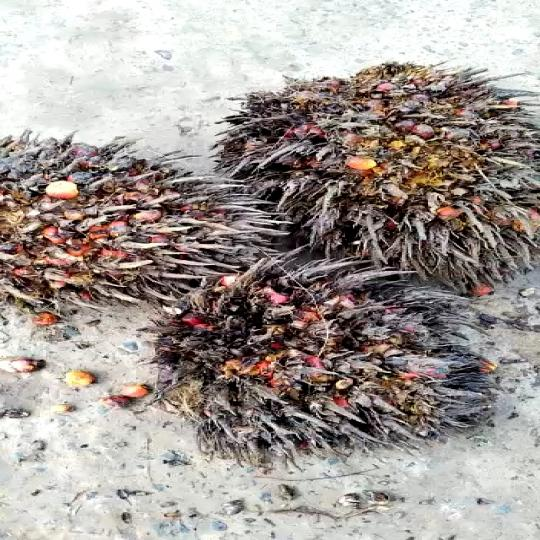terlalu masak: (208, 52, 540, 291), (155, 250, 516, 461)
